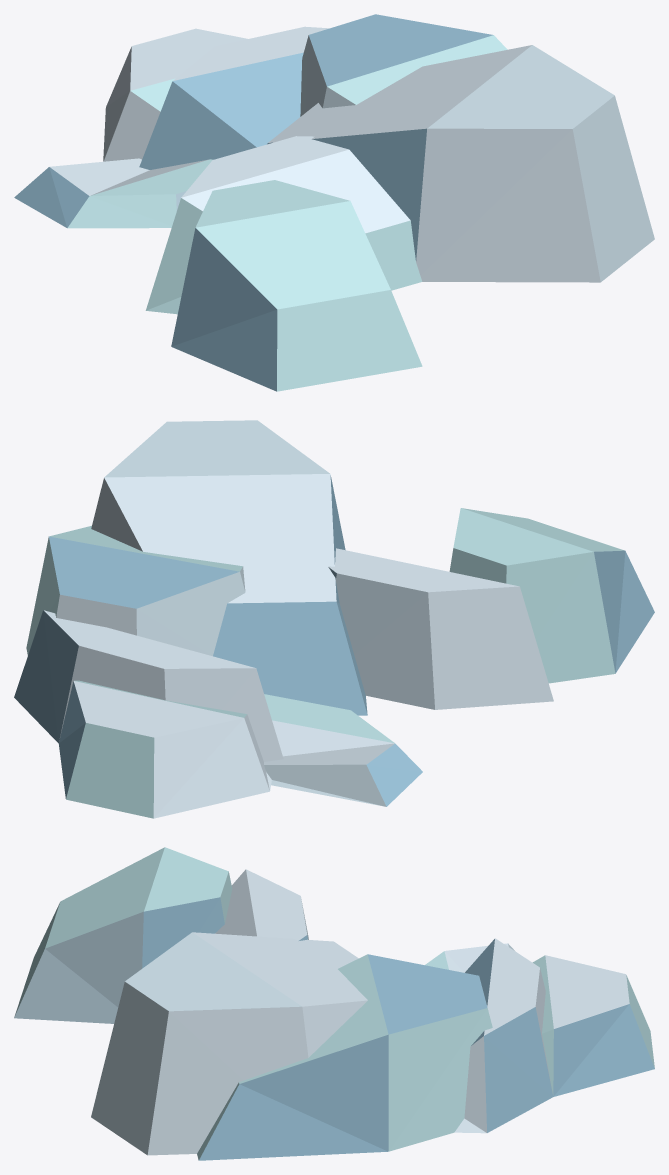
The model's file is Ice Rocks 7.fbx.
3 renders of one model, top to bottom at view 1: azimuth 30°, elevation 25°; view 2: azimuth 150°, elevation 25°; view 3: azimuth 270°, elevation 25°, orthographic. The views are drawn at different scales.
Parts seen in each view (by area): view 1: Ice block 1; view 2: Ice block 1; view 3: Ice block 1.
Part boxes in pixels (<box>): Ice block 1: <box>14,14,654,391</box>; Ice block 1: <box>14,420,654,818</box>; Ice block 1: <box>14,847,654,1160</box>.
Bounding box in the file's own units: 723 × 203 × 898.
